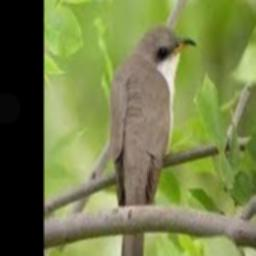Cuckoo: (107, 25, 197, 256)
